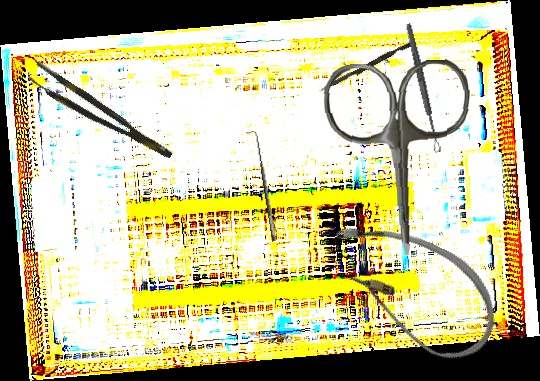Cannula: (307, 205, 515, 373)
Hook Surgical: (245, 130, 279, 243)
Iris Scissors: (321, 58, 479, 259)
Pusher: (318, 39, 413, 96)
Surgical Spoon: (404, 22, 442, 154)
Tissue Forceps: (25, 59, 175, 172)
